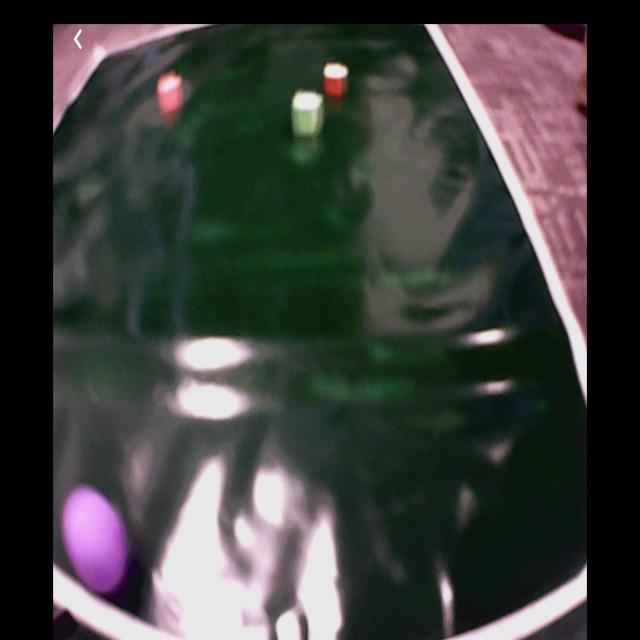ball: (62, 489, 129, 593)
